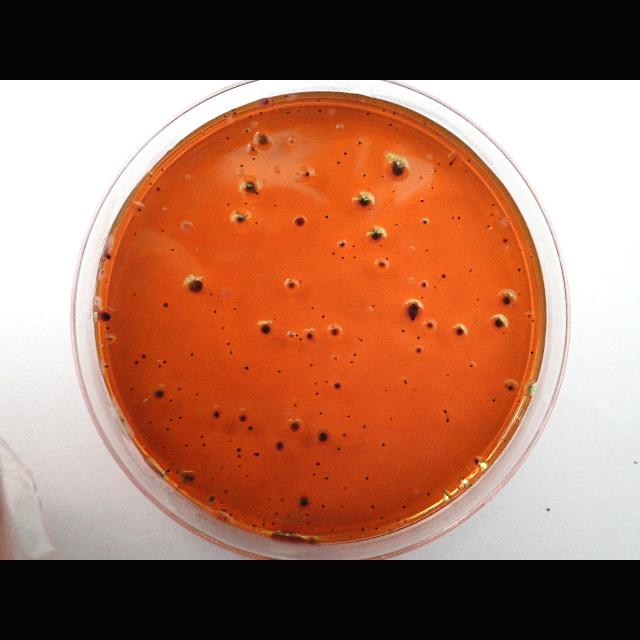colony: (390, 158, 408, 178), (186, 278, 204, 294), (356, 193, 374, 207), (407, 301, 419, 321), (256, 132, 270, 148), (293, 214, 309, 228), (371, 228, 384, 242), (100, 310, 114, 322), (244, 180, 256, 194), (501, 292, 511, 308), (274, 439, 286, 451), (526, 382, 536, 396), (152, 389, 166, 399), (316, 432, 330, 442), (288, 421, 302, 431), (494, 317, 506, 328), (298, 496, 310, 506), (260, 324, 272, 334), (455, 327, 465, 338), (330, 326, 340, 336), (333, 382, 342, 391), (426, 320, 434, 330), (420, 280, 428, 290), (378, 260, 388, 268), (288, 280, 296, 290), (338, 240, 348, 248), (236, 215, 246, 223), (213, 409, 221, 418), (304, 170, 312, 178), (104, 252, 112, 260), (508, 384, 514, 392), (473, 457, 479, 465), (240, 414, 246, 422), (162, 302, 170, 308), (416, 346, 422, 354), (502, 237, 508, 243), (360, 527, 366, 533), (209, 496, 215, 502), (254, 452, 260, 458), (247, 425, 253, 431), (141, 353, 147, 359), (306, 332, 312, 338), (441, 273, 447, 279), (250, 146, 256, 152), (264, 100, 270, 106), (364, 476, 370, 482), (106, 336, 114, 340), (530, 350, 534, 356), (446, 417, 450, 423), (443, 408, 447, 414), (427, 491, 431, 497), (442, 489, 448, 493), (320, 504, 326, 508), (221, 508, 227, 512), (190, 476, 194, 482), (237, 454, 243, 458), (236, 448, 242, 452), (185, 442, 189, 448), (129, 387, 135, 391), (316, 461, 320, 467), (244, 366, 250, 370), (226, 342, 232, 346), (190, 352, 194, 358), (133, 360, 139, 364), (104, 364, 110, 368), (490, 203, 496, 207), (422, 220, 428, 224), (344, 150, 348, 156), (238, 164, 244, 168), (252, 156, 256, 162), (245, 128, 249, 134), (248, 115, 254, 119), (258, 111, 264, 115), (286, 110, 290, 116), (318, 108, 322, 114), (358, 140, 362, 146), (388, 122, 392, 128), (382, 108, 386, 114), (464, 168, 468, 174), (430, 185, 434, 191), (420, 198, 424, 204), (469, 363, 473, 369), (162, 444, 166, 450), (156, 186, 160, 192), (161, 228, 165, 234), (170, 248, 176, 252), (100, 270, 106, 274), (104, 280, 110, 284), (517, 268, 521, 272), (512, 303, 516, 307), (518, 292, 522, 296), (530, 255, 534, 259), (468, 268, 472, 272), (504, 384, 508, 388), (492, 398, 496, 402), (462, 484, 466, 488), (388, 528, 392, 532), (371, 504, 375, 508), (349, 534, 353, 538), (331, 528, 335, 532), (305, 513, 309, 517), (274, 512, 278, 516), (280, 498, 284, 502), (262, 522, 266, 526), (252, 523, 256, 527), (258, 528, 262, 532), (228, 512, 232, 516), (224, 490, 228, 494), (166, 468, 170, 472), (175, 470, 179, 474), (238, 464, 242, 468), (166, 427, 170, 431), (169, 418, 173, 422), (121, 419, 125, 423), (169, 398, 173, 402), (178, 387, 182, 391), (312, 472, 316, 476), (337, 447, 341, 451), (342, 433, 346, 437), (294, 403, 298, 407), (319, 411, 323, 415), (347, 414, 351, 418), (315, 392, 319, 396), (314, 382, 318, 386), (309, 363, 313, 367), (335, 356, 339, 360), (350, 360, 354, 364), (277, 370, 281, 374), (229, 350, 233, 354), (163, 360, 167, 364), (158, 364, 162, 368), (102, 345, 106, 349), (221, 326, 225, 330), (233, 306, 237, 310), (289, 334, 293, 338), (395, 222, 399, 226), (310, 306, 314, 310), (298, 280, 302, 284), (352, 255, 356, 259), (325, 215, 329, 219), (363, 174, 367, 178), (226, 136, 230, 140), (284, 94, 288, 98), (296, 108, 300, 112), (316, 98, 320, 102), (366, 112, 370, 116), (392, 111, 396, 115), (385, 100, 389, 104), (449, 162, 453, 166), (467, 158, 471, 162), (434, 169, 438, 173), (362, 424, 366, 428), (382, 442, 386, 446), (344, 486, 348, 490), (298, 509, 302, 513), (171, 462, 175, 466), (228, 438, 232, 442), (160, 168, 164, 172), (149, 174, 153, 178), (138, 208, 142, 212), (245, 214, 249, 218), (236, 211, 240, 215), (255, 192, 259, 196), (134, 232, 138, 236), (396, 518, 399, 522), (381, 516, 384, 520), (268, 496, 270, 502), (182, 472, 184, 478), (202, 442, 205, 446), (105, 326, 108, 330), (214, 308, 216, 314), (416, 336, 419, 340), (486, 225, 489, 229), (337, 160, 341, 163), (233, 112, 237, 115), (223, 115, 227, 118), (390, 416, 392, 422), (220, 466, 223, 469), (381, 175, 384, 178), (518, 248, 522, 250), (477, 297, 479, 301), (502, 332, 506, 334), (528, 314, 530, 318), (532, 319, 534, 323), (517, 399, 519, 403), (488, 459, 490, 463), (470, 484, 472, 488), (402, 506, 406, 508), (376, 526, 378, 530), (341, 505, 343, 509), (306, 522, 310, 524), (288, 514, 290, 518), (258, 514, 260, 518), (224, 516, 226, 520), (220, 501, 222, 505), (246, 474, 248, 478), (180, 416, 182, 420), (148, 422, 152, 424), (196, 392, 198, 396), (326, 476, 328, 480), (354, 352, 356, 356), (134, 292, 136, 296), (210, 292, 212, 296), (274, 317, 276, 321), (322, 314, 324, 318), (360, 338, 362, 342), (433, 286, 437, 288), (500, 196, 502, 200), (458, 216, 460, 220), (452, 216, 454, 220), (426, 249, 428, 253), (386, 256, 388, 260), (372, 304, 374, 308), (332, 251, 334, 255), (342, 256, 344, 260), (391, 198, 393, 202), (396, 127, 398, 131), (424, 122, 426, 126), (436, 132, 438, 136), (438, 163, 440, 167), (420, 175, 422, 179), (504, 439, 506, 443), (263, 518, 265, 522), (150, 182, 152, 186), (255, 221, 257, 225), (427, 510, 431, 512), (441, 505, 443, 509), (530, 245, 532, 248), (421, 296, 424, 298), (491, 214, 494, 216), (352, 245, 354, 248), (381, 245, 383, 248), (506, 192, 508, 195), (274, 205, 276, 208), (245, 202, 248, 204), (311, 528, 313, 530), (272, 522, 274, 524), (212, 478, 214, 480), (202, 436, 204, 438), (326, 380, 328, 382), (296, 334, 298, 336), (299, 338, 301, 340), (358, 337, 360, 339), (402, 330, 404, 332), (500, 218, 502, 220), (368, 230, 370, 232), (369, 208, 371, 210), (392, 190, 394, 192), (423, 120, 425, 122), (374, 98, 376, 100), (373, 101, 375, 103), (446, 374, 448, 376), (227, 203, 229, 205), (380, 244, 380, 246)
